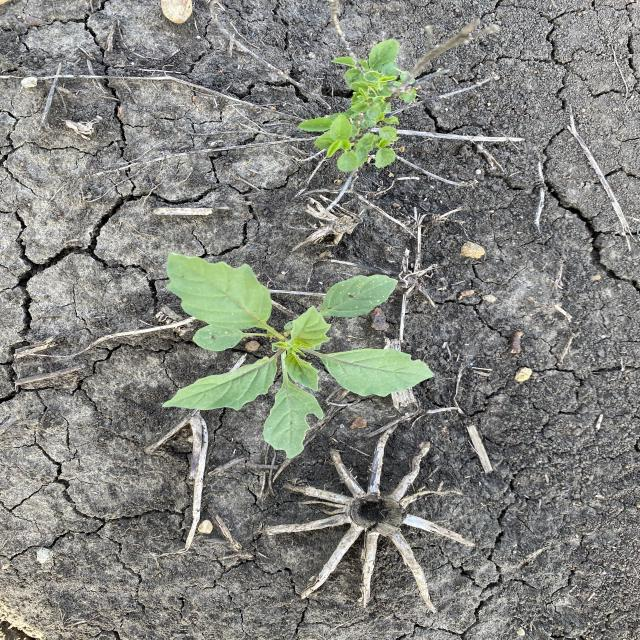CutleafGroundcherry: (160, 249, 439, 462)
PricklySida: (295, 38, 419, 174)
